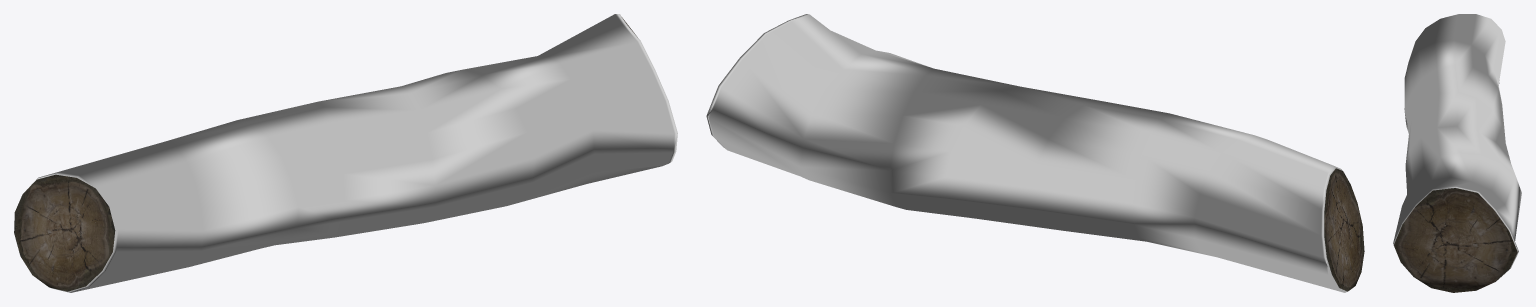
File: arden_forest_bench_01.fbx
The picture shows the model from 3 angles, left to right: view 1: azimuth 30°, elevation 25°; view 2: azimuth 150°, elevation 25°; view 3: azimuth 270°, elevation 25°; orthographic projection. The views are drawn at different scales.
Visible parts, largest first — view 1: arden_forest_bench_01; view 2: arden_forest_bench_01; view 3: arden_forest_bench_01.
Part boxes in pixels (x1,y1,x2,y2): arden_forest_bench_01: (14,14,677,292); arden_forest_bench_01: (706,14,1364,292); arden_forest_bench_01: (1393,14,1521,292).
Bounding box in the file's own units: 3.05 × 0.7824 × 0.6889.
